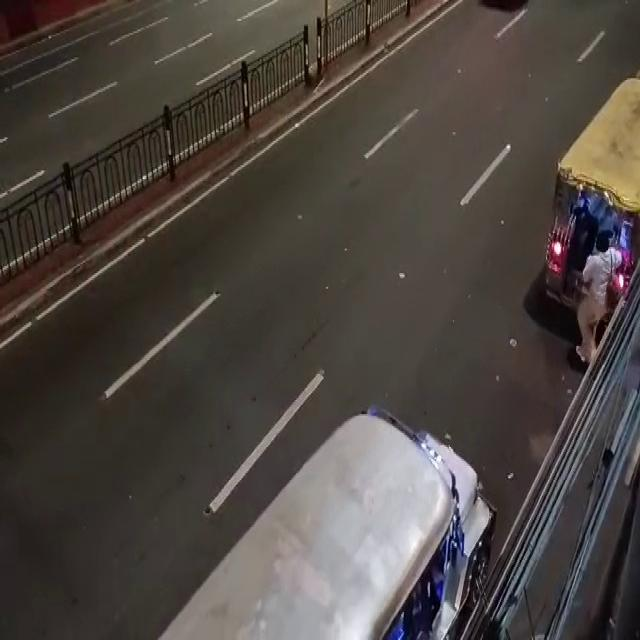jeepney: (194, 379, 550, 640), (526, 61, 640, 374)
